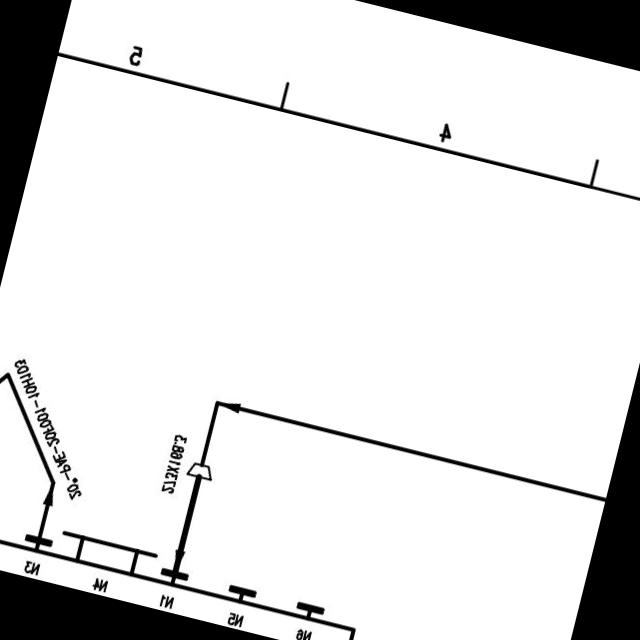SP: (181, 454, 215, 482)
